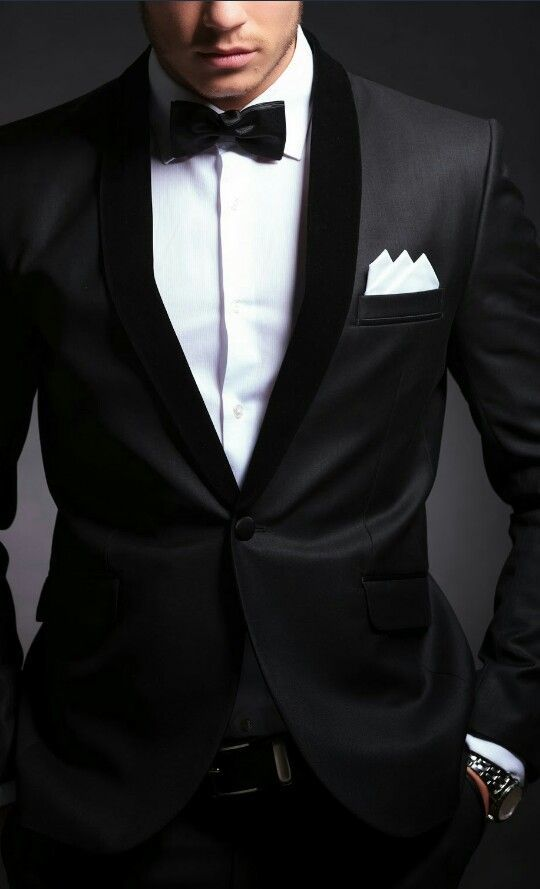bow: (159, 97, 302, 170)
